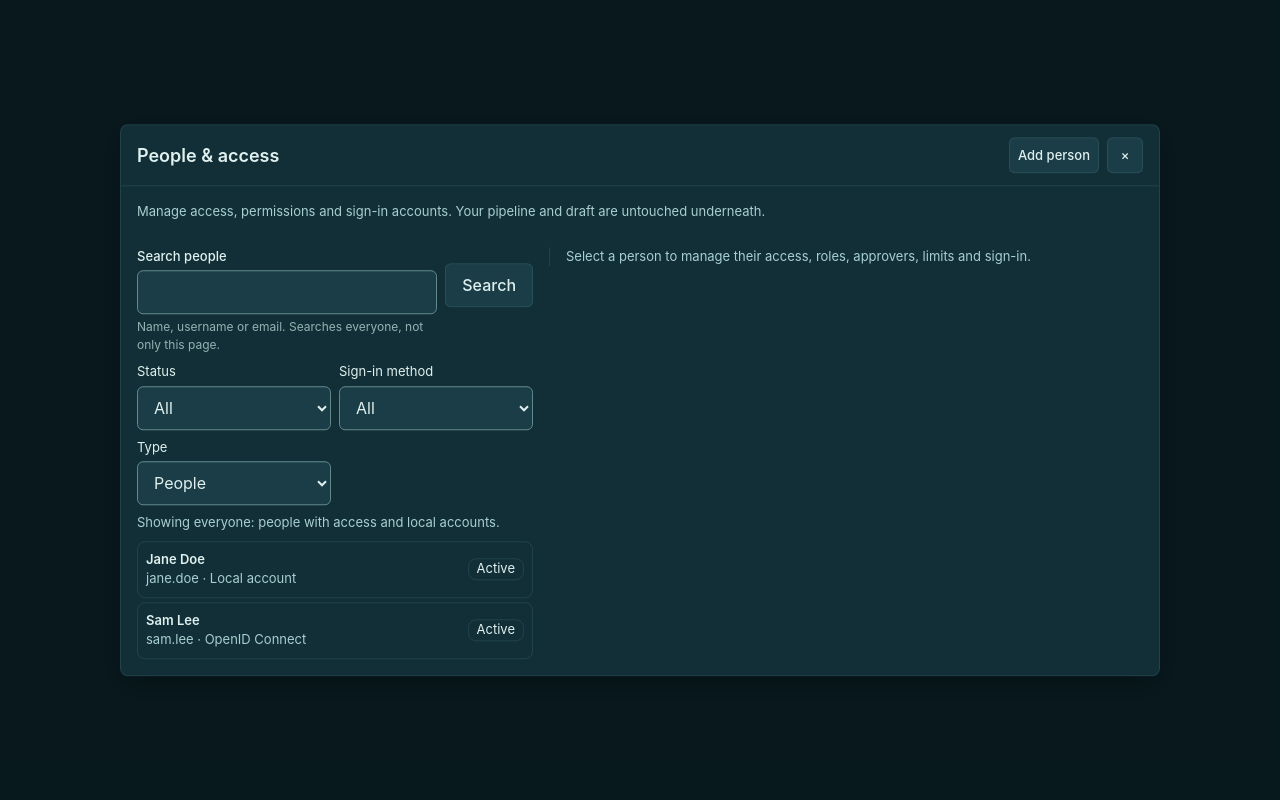
People & access: implementation review regressions › keeps the person the administrator moved to when an earlier person's write finishes
Click the button "Jane Doe jane.doe · Local account Active": point(175, 559) x1=137 y1=541 x2=533 y2=598
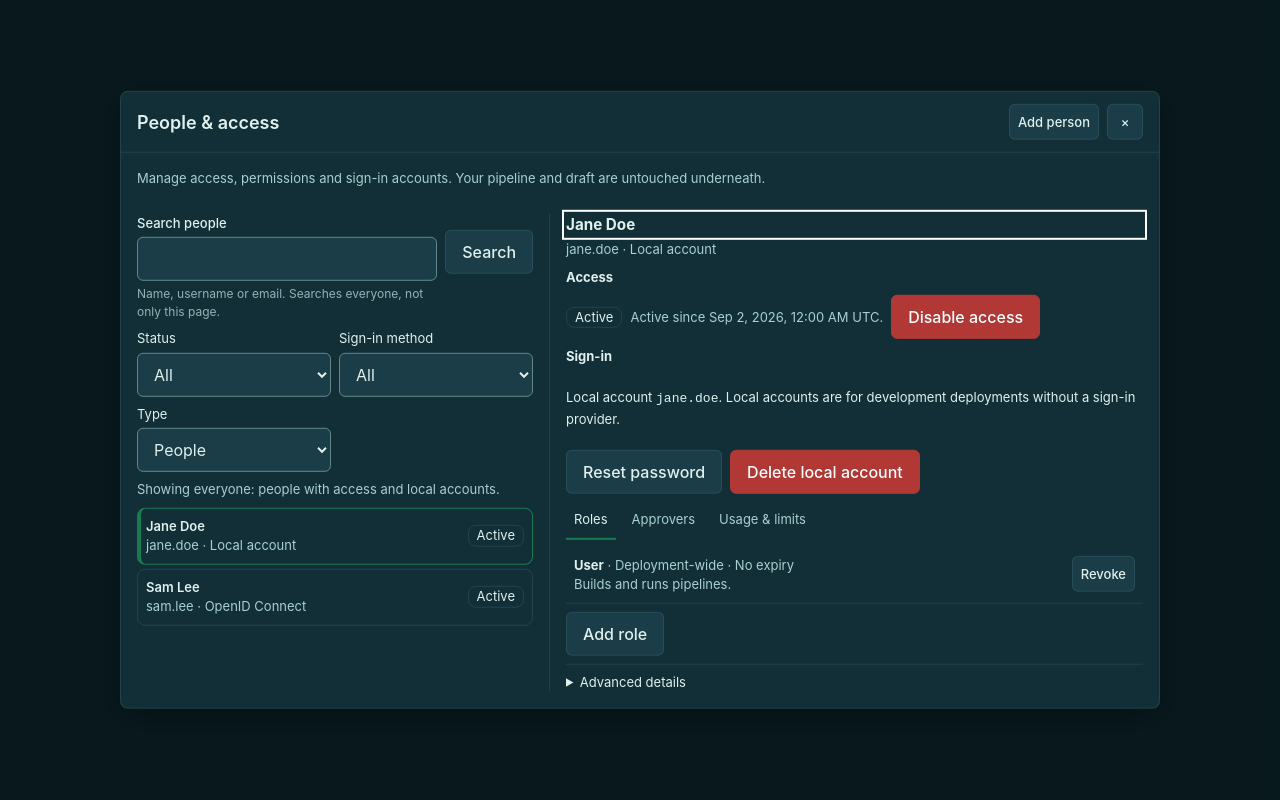
Result: the button "Add role" is shown
Click the button "Add role": point(615, 634) x1=566 y1=612 x2=664 y2=656
(page scrolled)
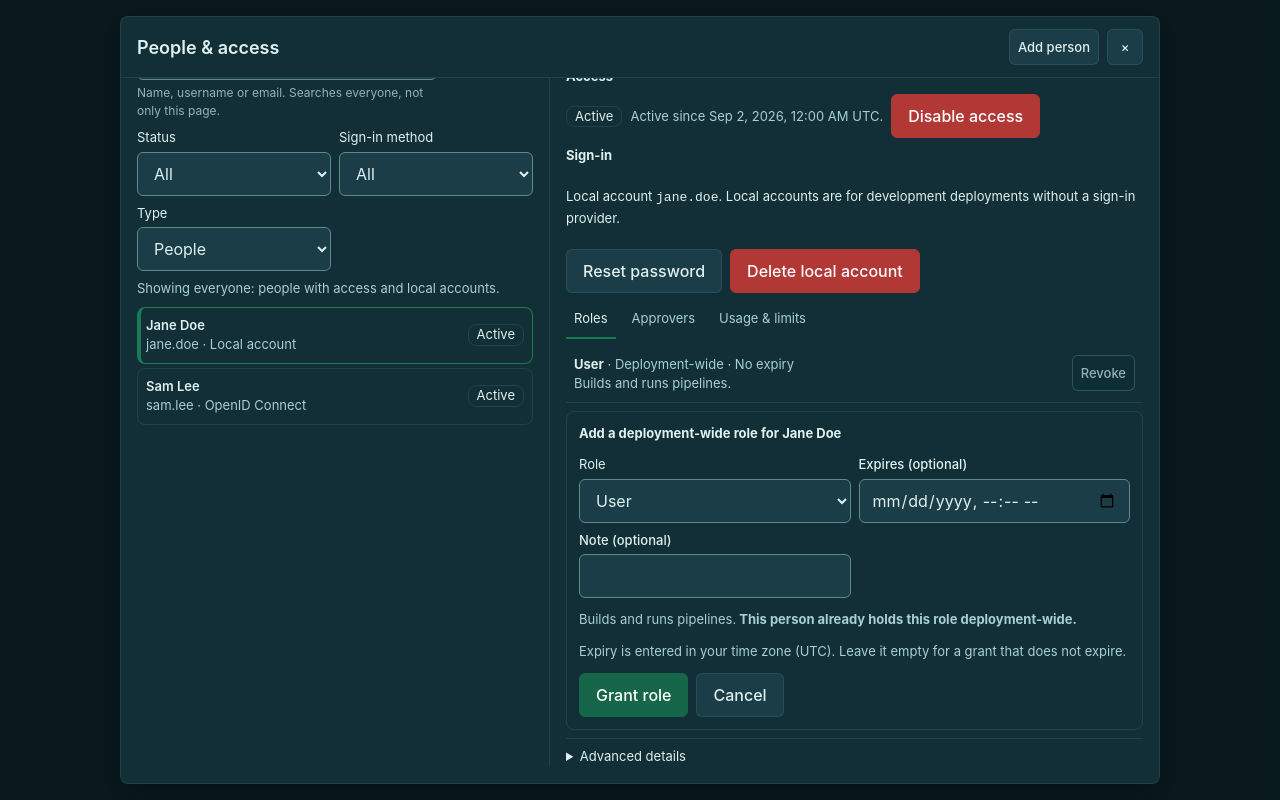
Click the button "Grant role": point(634, 695) x1=579 y1=673 x2=688 y2=717
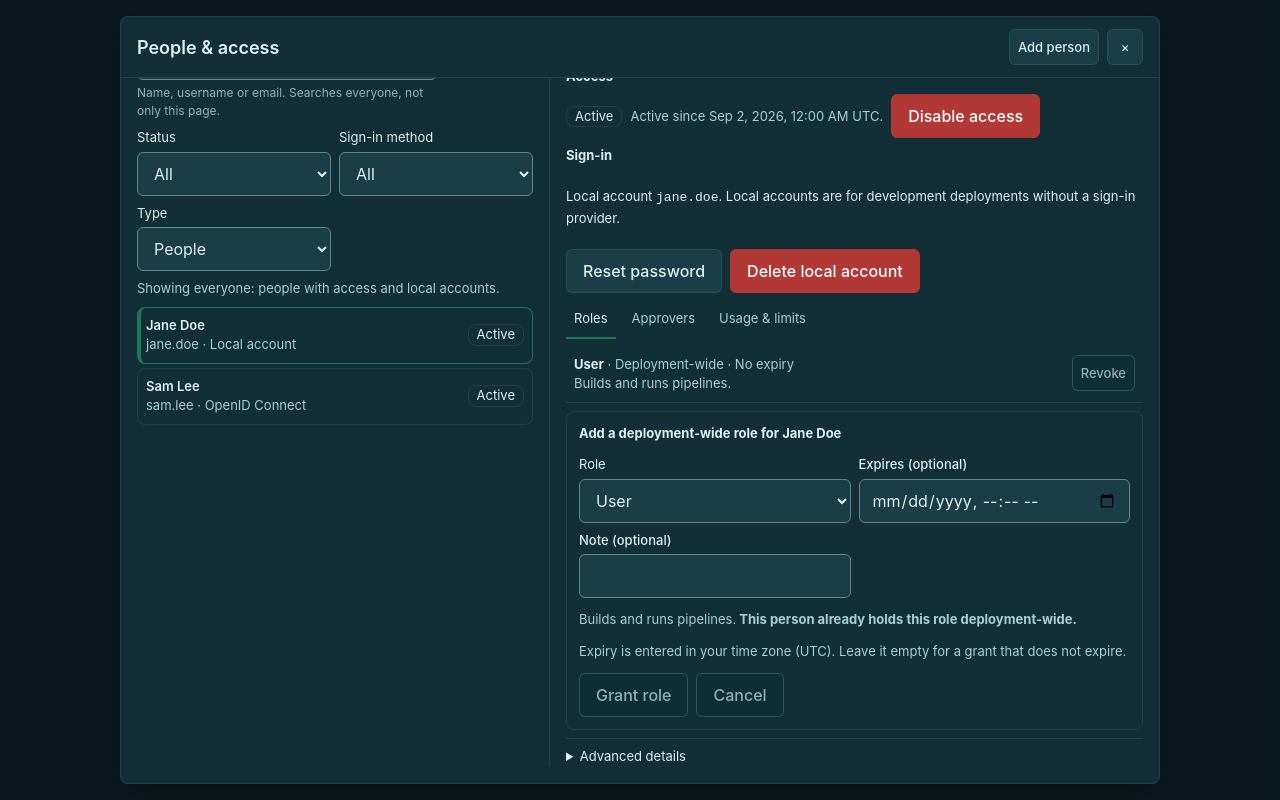
Click the button "Sam Lee sam.lee · OpenID Connect Active": point(173, 386) x1=137 y1=368 x2=533 y2=424
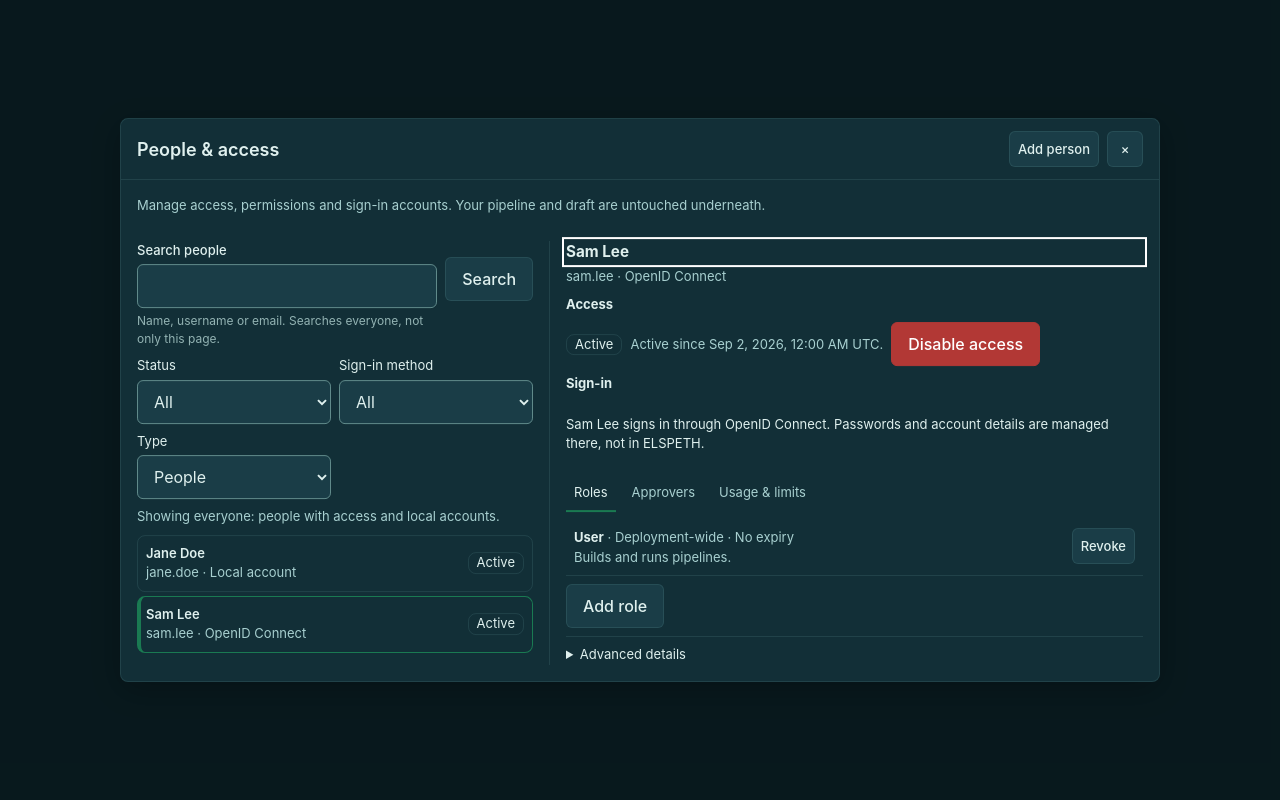
Result: the heading "Sam Lee" is shown at x1=566 y1=242 x2=629 y2=261
